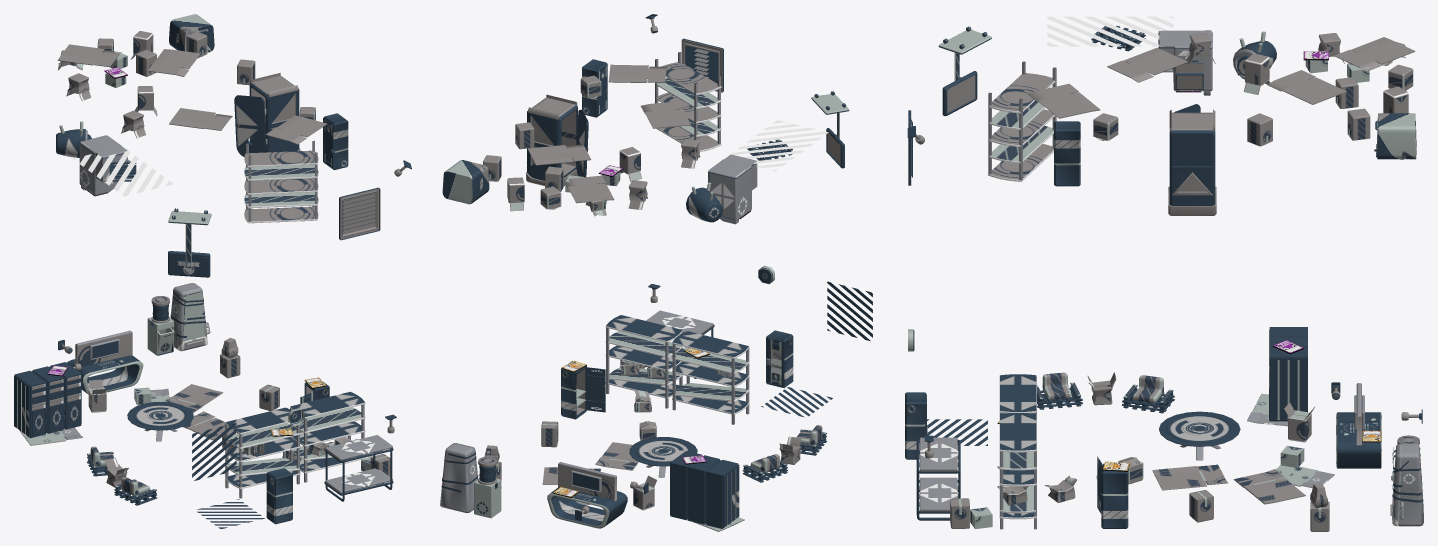
The model's file is Staff_Room_Movable_Meshs.fbx.
3 renders of one model, left to right at view 1: azimuth 30°, elevation 25°; view 2: azimuth 150°, elevation 25°; view 3: azimuth 270°, elevation 25°, orthographic. The views are drawn at different scales.
Parts seen in each view (by area): view 1: SM_SR_Etagere_03, SM_SR_Etagere_01, SM_SR_toilets, SM_SR_Etagere_02, SM_SR_bureau, SM_SR_Lit, SM_SR_Vending_machine, SM_SR_serveur_03, SM_SR_Vent, SM_SR_tele, SM_SR_imprimante, SM_SR_Table (+23 smaller); view 2: SM_SR_Etagere_01, SM_SR_Etagere_02, SM_SR_Etagere_03, SM_SR_toilets, SM_SR_bureau, SM_SR_imprimante, SM_SR_Vending_machine, SM_SR_serveur_03, SM_SR_casier_ouvert, SM_SR_four, SM_SR_Alpha_12, SM_SR_Table (+22 smaller); view 3: SM_SR_Etagere_03, SM_SR_toilets, SM_SR_Etagere_02, SM_SR_Lit, SM_SR_bureau, SM_SR_serveur_02, SM_SR_Vending_machine, SM_SR_Table, SM_SR_imprimante, SM_SR_tele, SM_SR_Alpha_12, SM_SR_four (+24 smaller).
Part boxes in pixels (x1=…): SM_SR_Etagere_03: x1=244, y1=140, x2=318, y2=223; SM_SR_Etagere_01: x1=225, y1=407, x2=300, y2=498; SM_SR_toilets: x1=234, y1=73, x2=300, y2=156; SM_SR_Etagere_02: x1=290, y1=391, x2=365, y2=482; SM_SR_bureau: x1=67, y1=330, x2=143, y2=394; SM_SR_Lit: x1=324, y1=435, x2=393, y2=501; SM_SR_Vending_machine: x1=170, y1=283, x2=210, y2=351; SM_SR_serveur_03: x1=14, y1=370, x2=46, y2=437; SM_SR_Vent: x1=339, y1=187, x2=380, y2=240; SM_SR_tele: x1=168, y1=208, x2=211, y2=277; SM_SR_imprimante: x1=79, y1=135, x2=130, y2=195; SM_SR_Table: x1=127, y1=402, x2=193, y2=441; SM_SR_Etagere_01: x1=672, y1=331, x2=749, y2=424; SM_SR_Etagere_02: x1=605, y1=315, x2=682, y2=408; SM_SR_Etagere_03: x1=655, y1=52, x2=721, y2=151; SM_SR_toilets: x1=526, y1=94, x2=588, y2=186; SM_SR_bureau: x1=547, y1=462, x2=627, y2=528; SM_SR_imprimante: x1=708, y1=154, x2=757, y2=224; SM_SR_Vending_machine: x1=440, y1=443, x2=478, y2=513; SM_SR_serveur_03: x1=706, y1=460, x2=739, y2=528; SM_SR_casier_ouvert: x1=561, y1=361, x2=605, y2=419; SM_SR_four: x1=442, y1=160, x2=489, y2=204; SM_SR_Alpha_12: x1=729, y1=120, x2=828, y2=171; SM_SR_Table: x1=629, y1=437, x2=697, y2=477; SM_SR_Etagere_03: x1=988, y1=61, x2=1056, y2=181; SM_SR_toilets: x1=1168, y1=104, x2=1216, y2=215; SM_SR_Etagere_02: x1=999, y1=412, x2=1036, y2=529; SM_SR_Lit: x1=916, y1=437, x2=960, y2=520; SM_SR_bureau: x1=1336, y1=383, x2=1381, y2=468; SM_SR_serveur_02: x1=1269, y1=348, x2=1307, y2=421; SM_SR_Vending_machine: x1=1390, y1=443, x2=1423, y2=526; SM_SR_Table: x1=1159, y1=411, x2=1240, y2=460; SM_SR_imprimante: x1=1158, y1=30, x2=1212, y2=95; SM_SR_tele: x1=938, y1=26, x2=991, y2=116; SM_SR_Alpha_12: x1=1047, y1=16, x2=1173, y2=46; SM_SR_four: x1=1375, y1=113, x2=1416, y2=159.
Size of the model in its own units: 1840 by 2461 by 2840.
